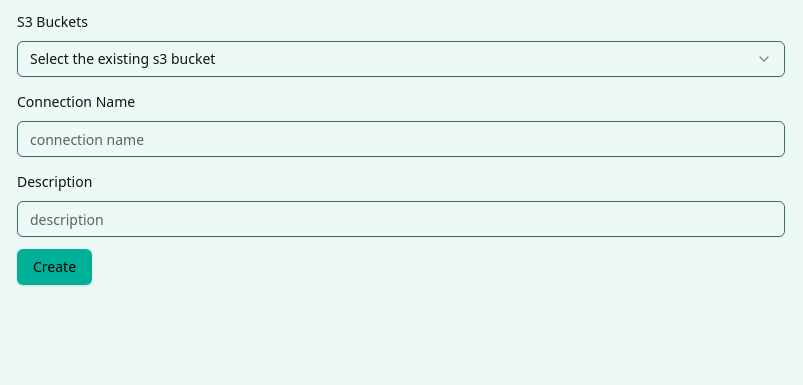
Test: SelectExisting › shows validation errors when submitting with empty fields
This screenshot has width=803, height=385.
Click the button "Create" at (55, 267), box left=17, top=249, right=92, bottom=285
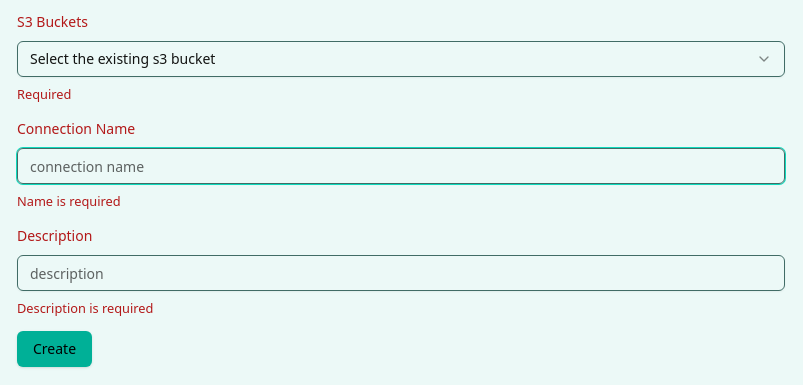
Check: the text "Required" is shown, box left=17, top=85, right=71, bottom=103
Check: the text "Name is required" is shown, box left=17, top=192, right=121, bottom=210
Check: the text "Description is required" is shown, box left=17, top=299, right=153, bottom=317
